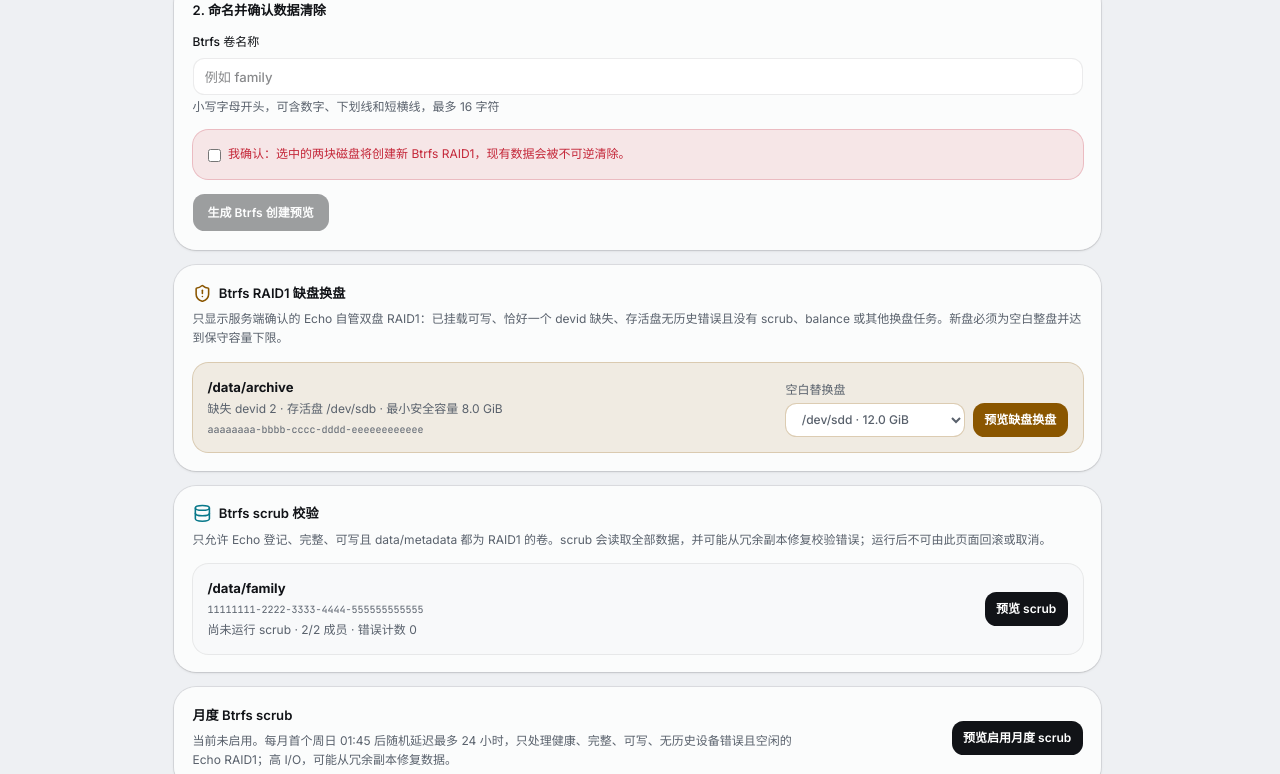
Btrfs RAID1 panel › previews repair-capable scrub and requires its separate approval action
The width and height of the screenshot is (1280, 774).
(page scrolled)
Click the button "预览 scrub" at {"x": 1026, "y": 609}, box top-left (985, 592), bottom-right (1068, 626)
(page scrolled)
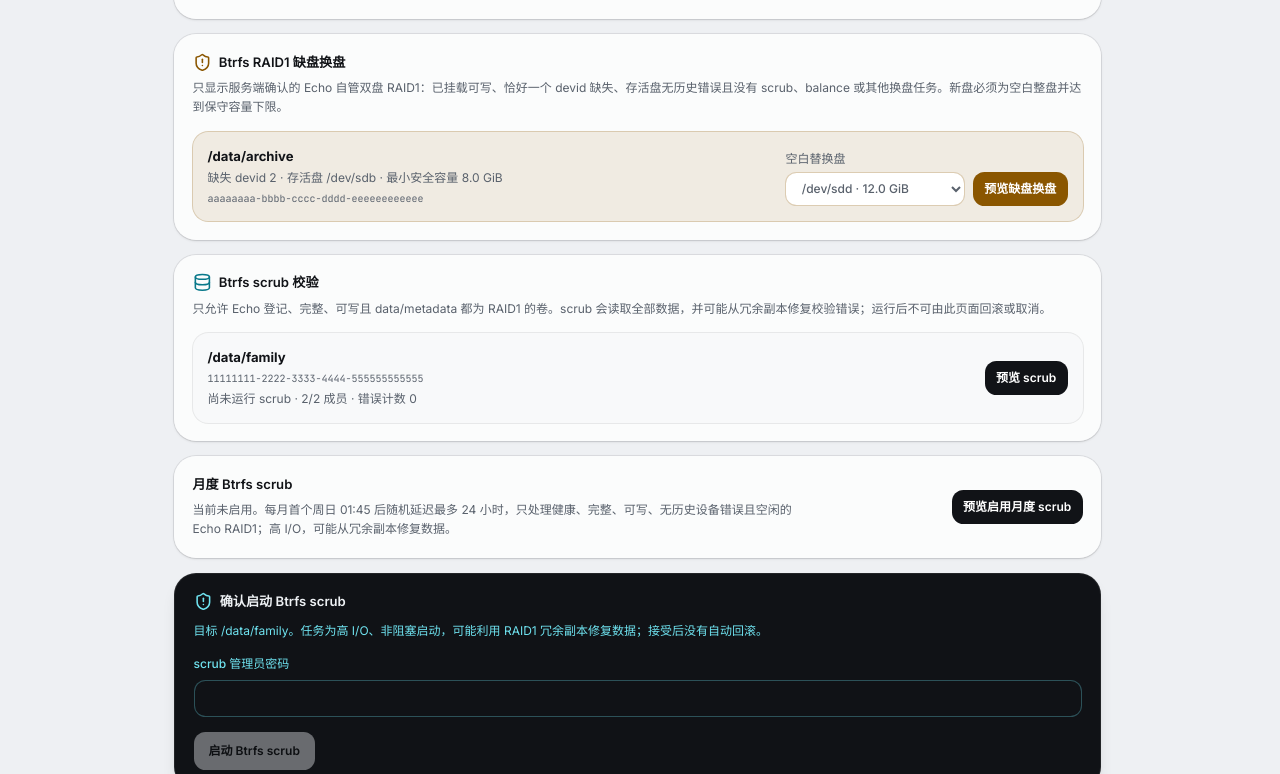
Type "scrub-password" into the password field labelled "scrub 管理员密码" at {"x": 638, "y": 698}, box top-left (194, 680), bottom-right (1082, 717)
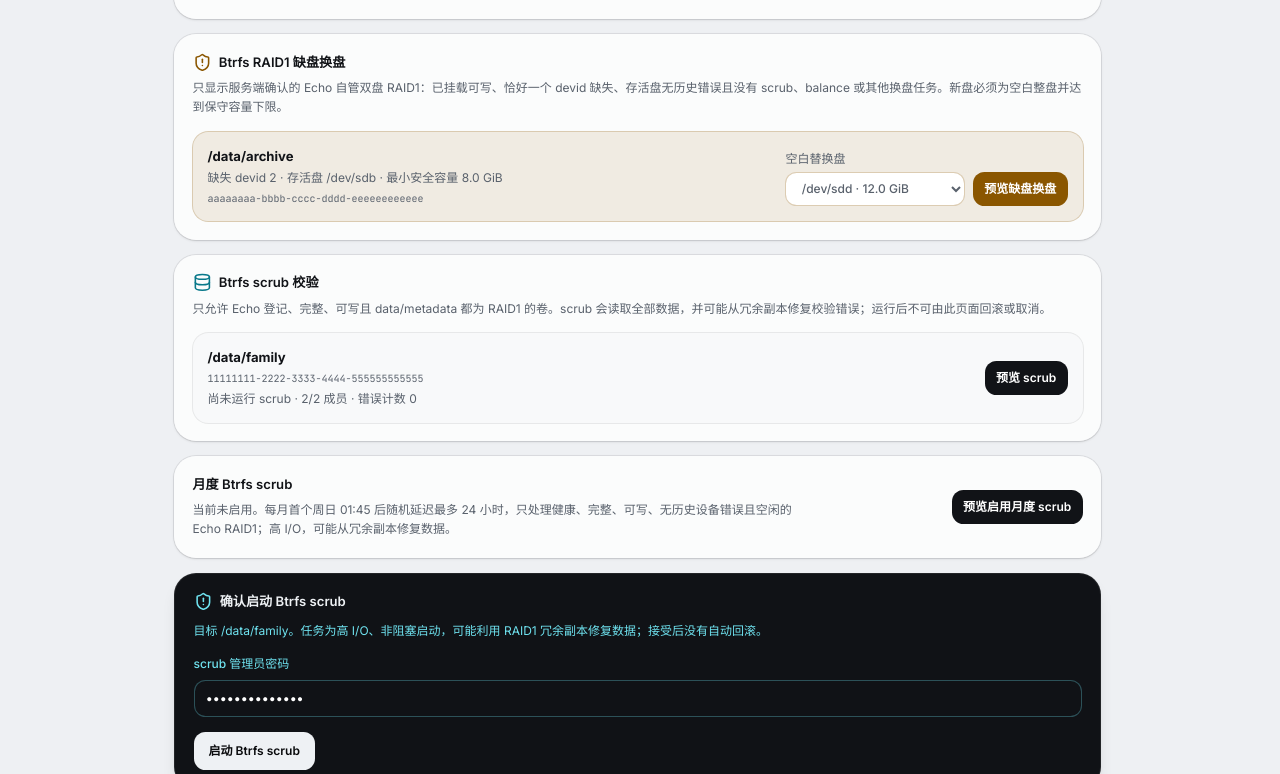
Click the button "启动 Btrfs scrub" at {"x": 254, "y": 751}, box top-left (194, 732), bottom-right (315, 770)
(page scrolled)
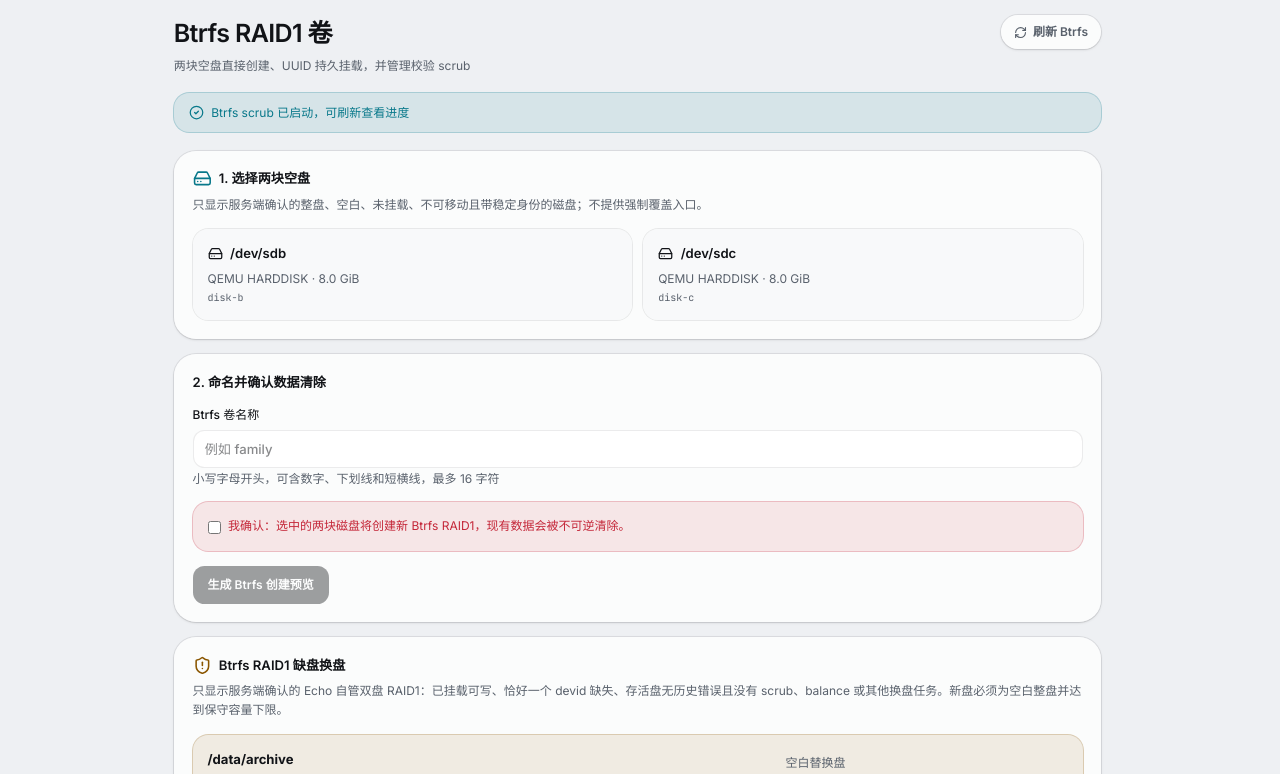
Check: the text "Btrfs scrub 已启动，可刷新查看进度" is shown, box top-left (174, 93), bottom-right (1101, 132)
